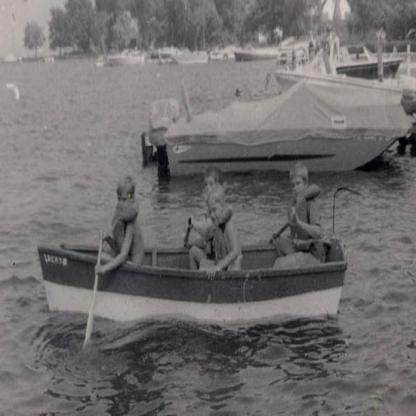face: (292, 177, 306, 202), (118, 189, 130, 215), (209, 202, 221, 227), (205, 177, 215, 196)
